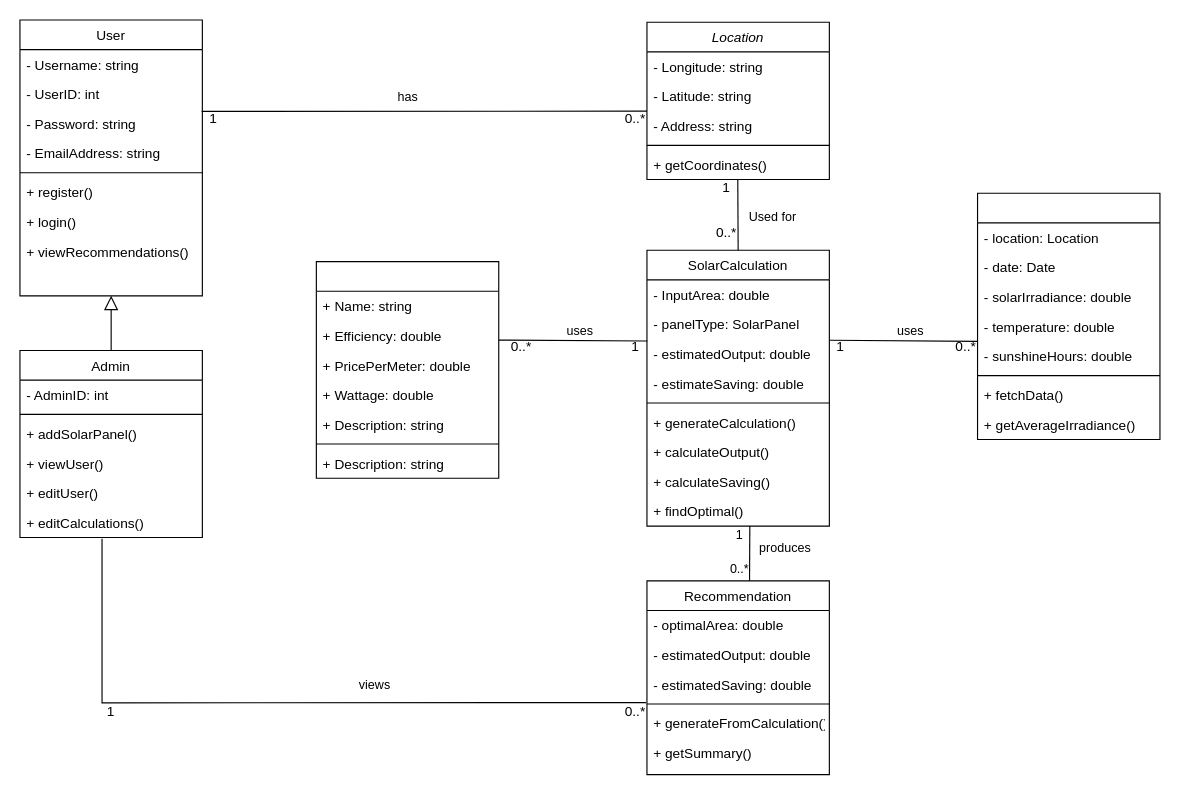
This 1180x795 diagram has some shape labels left out. The shapes that lost their labels are listed below. From the top down, each one's box as (x1, y1, x2, y2) in pixels, then its label:
(976, 192, 1160, 439): WeatherData
(315, 260, 499, 478): SolarPanel
